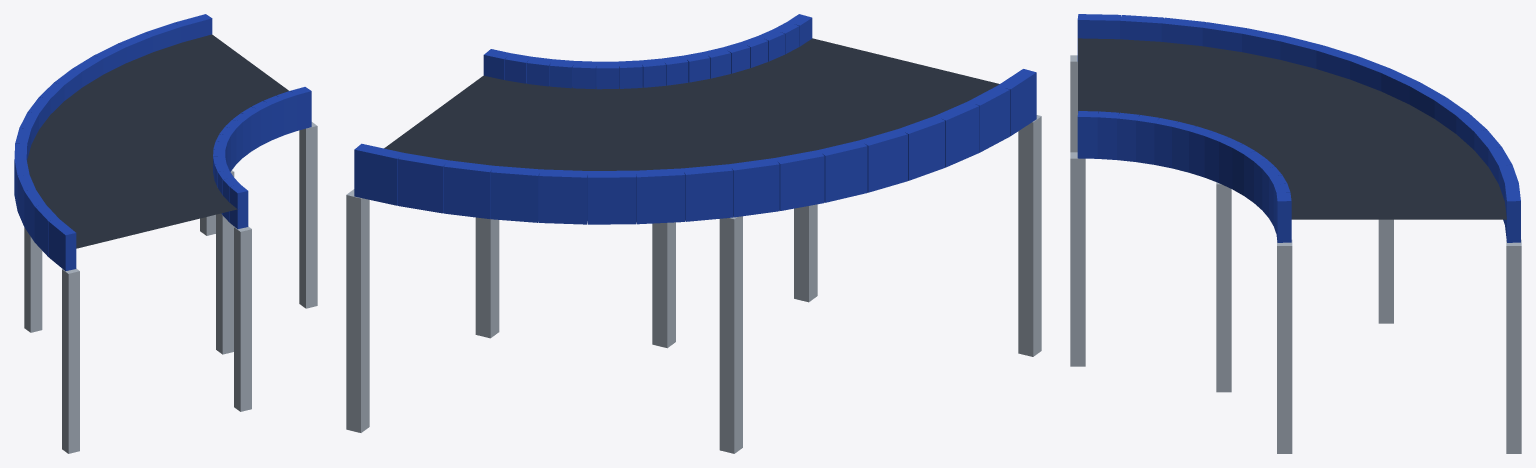
File: SM_MPR_Turn_e3.fbx
3 views of the same model, side by side, from view 1: azimuth 30°, elevation 25°; view 2: azimuth 150°, elevation 25°; view 3: azimuth 270°, elevation 25° (orthographic). The views are drawn at different scales.
Parts seen in each view (by area): view 1: SM_MPR_Turn_e3; view 2: SM_MPR_Turn_e3; view 3: SM_MPR_Turn_e3.
Boxes of the visible parts, <box> form: SM_MPR_Turn_e3: <box>14,14,317,453</box>; SM_MPR_Turn_e3: <box>346,14,1041,453</box>; SM_MPR_Turn_e3: <box>1070,14,1521,453</box>.
Bounding box in the file's own units: 177 × 177 × 108.
